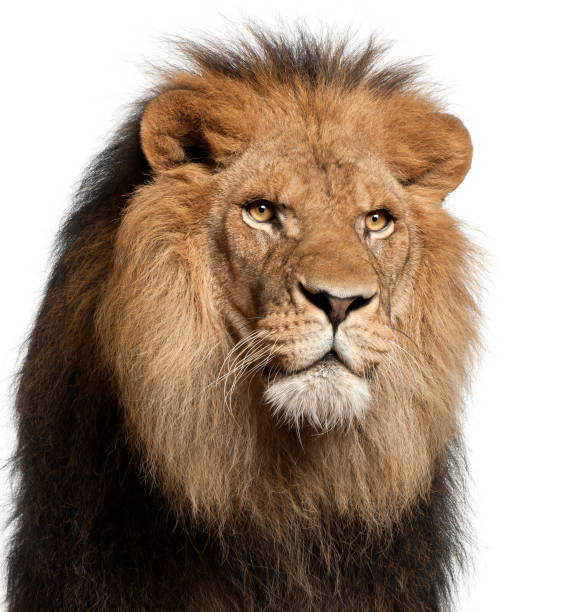lion: (42, 12, 536, 596)
